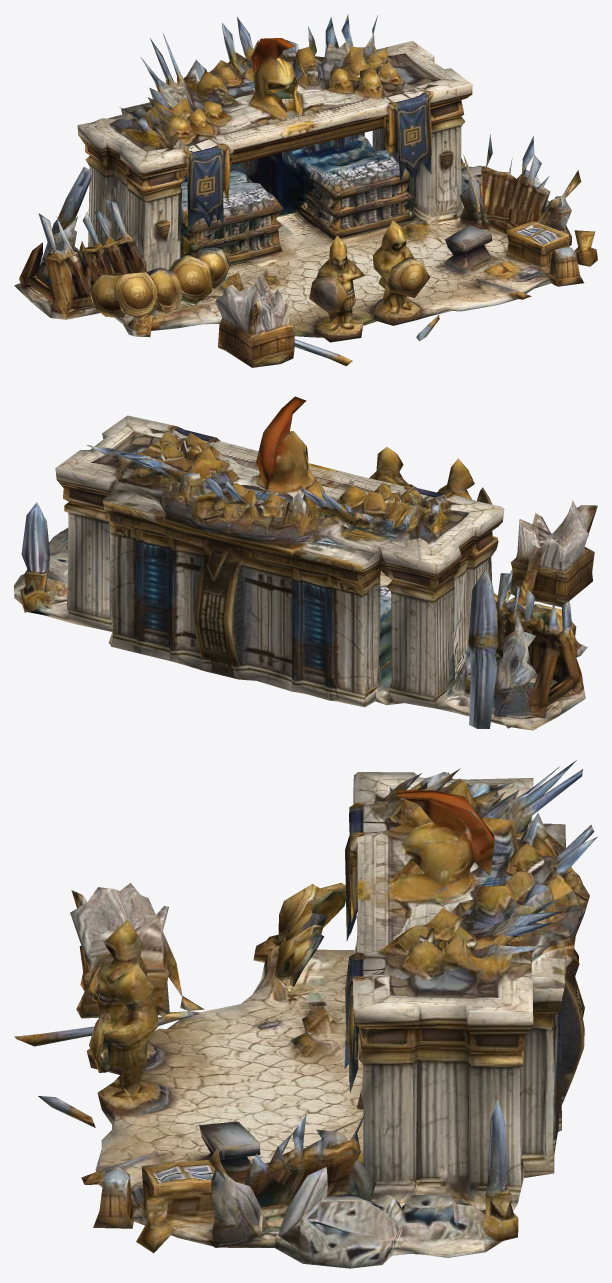
The model's file is armory.glb.
3 views of the same model, one above another, from view 1: azimuth 30°, elevation 25°; view 2: azimuth 150°, elevation 25°; view 3: azimuth 270°, elevation 25° (orthographic). The views are drawn at different scales.
Parts seen in each view (by area): view 1: Mesh_0; view 2: Mesh_0; view 3: Mesh_0.
Part boxes in pixels (x1,y1,x2,y2): Mesh_0: [14, 14, 597, 367]; Mesh_0: [14, 396, 597, 730]; Mesh_0: [14, 760, 597, 1268].
Bounding box in the file's own units: 7.4 × 3 × 5.23.
1 material, 1 textured.
